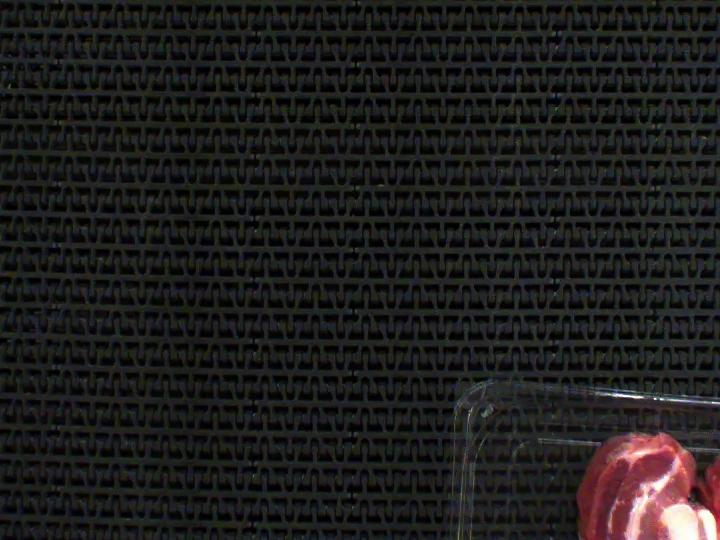packaging-error: (637, 406, 661, 437)
